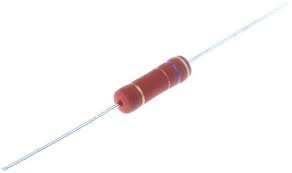resistor: (109, 41, 211, 142)
